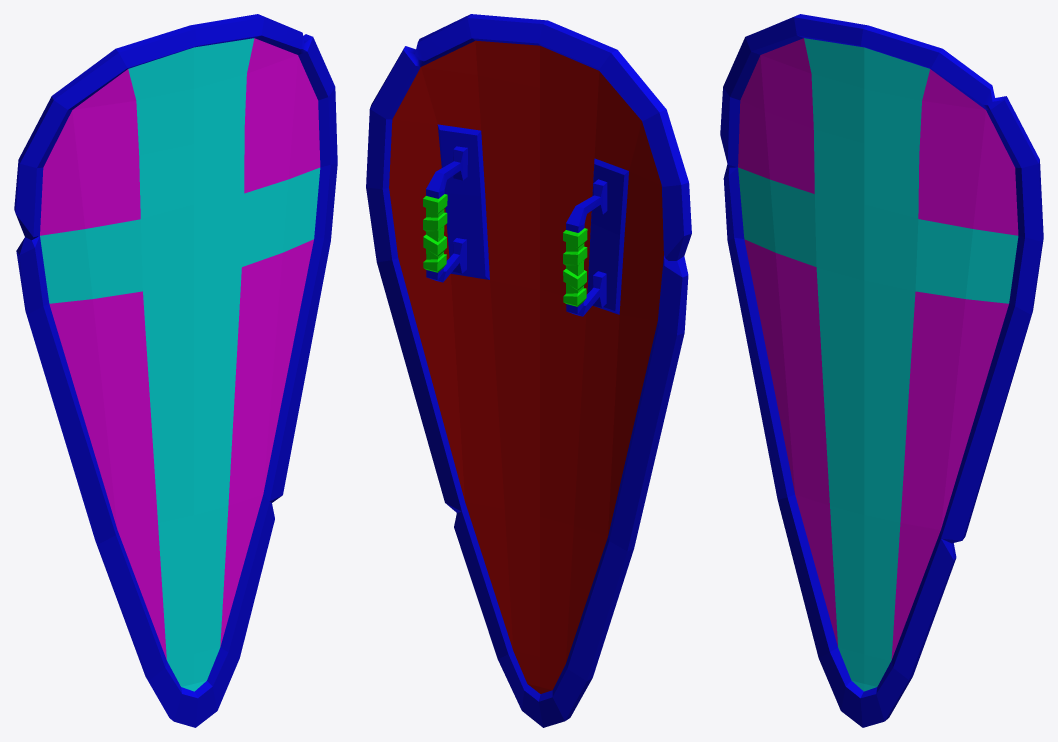
The model's file is Shield_Uncommon_Heraldic_02.fbx.
3 renders of one model, left to right at view 1: azimuth 30°, elevation 25°; view 2: azimuth 150°, elevation 25°; view 3: azimuth 330°, elevation 25°, orthographic.
Visible parts, largest first — view 1: SM_Wep_Shield_Long_08; view 2: SM_Wep_Shield_Long_08; view 3: SM_Wep_Shield_Long_08.
Boxes of the visible parts, bbox=[...] form: SM_Wep_Shield_Long_08: bbox=[14, 14, 337, 727]; SM_Wep_Shield_Long_08: bbox=[366, 14, 691, 727]; SM_Wep_Shield_Long_08: bbox=[720, 14, 1043, 727].
Size of the model in its own units: 63.33 by 131 by 16.3.
